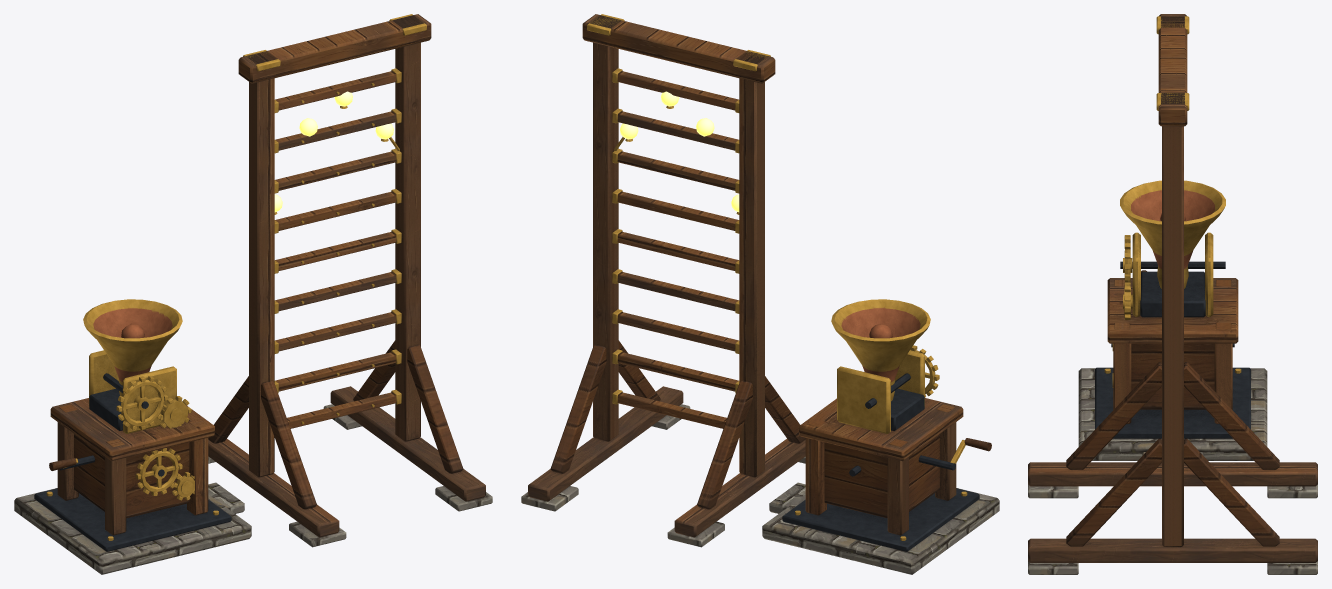
The model's file is prop_coriolis_launcher.glb.
3 views of the same model, side by side, from view 1: azimuth 30°, elevation 25°; view 2: azimuth 150°, elevation 25°; view 3: azimuth 270°, elevation 25° (orthographic). The views are drawn at different scales.
Parts seen in each view (by area): view 1: CoriolisLauncher, CoriolisTrajGlow; view 2: CoriolisLauncher, CoriolisTrajGlow; view 3: CoriolisLauncher.
Part boxes in pixels (left/top/right/bottom): CoriolisLauncher: left=14, top=14, right=492, bottom=574; CoriolisTrajGlow: left=274, top=91, right=393, bottom=212; CoriolisLauncher: left=521, top=14, right=999, bottom=574; CoriolisTrajGlow: left=620, top=91, right=739, bottom=212; CoriolisLauncher: left=1028, top=14, right=1317, bottom=574.
Bounding box in the file's own units: 2.65 × 2.85 × 1.6.
4 materials, 3 textured.
